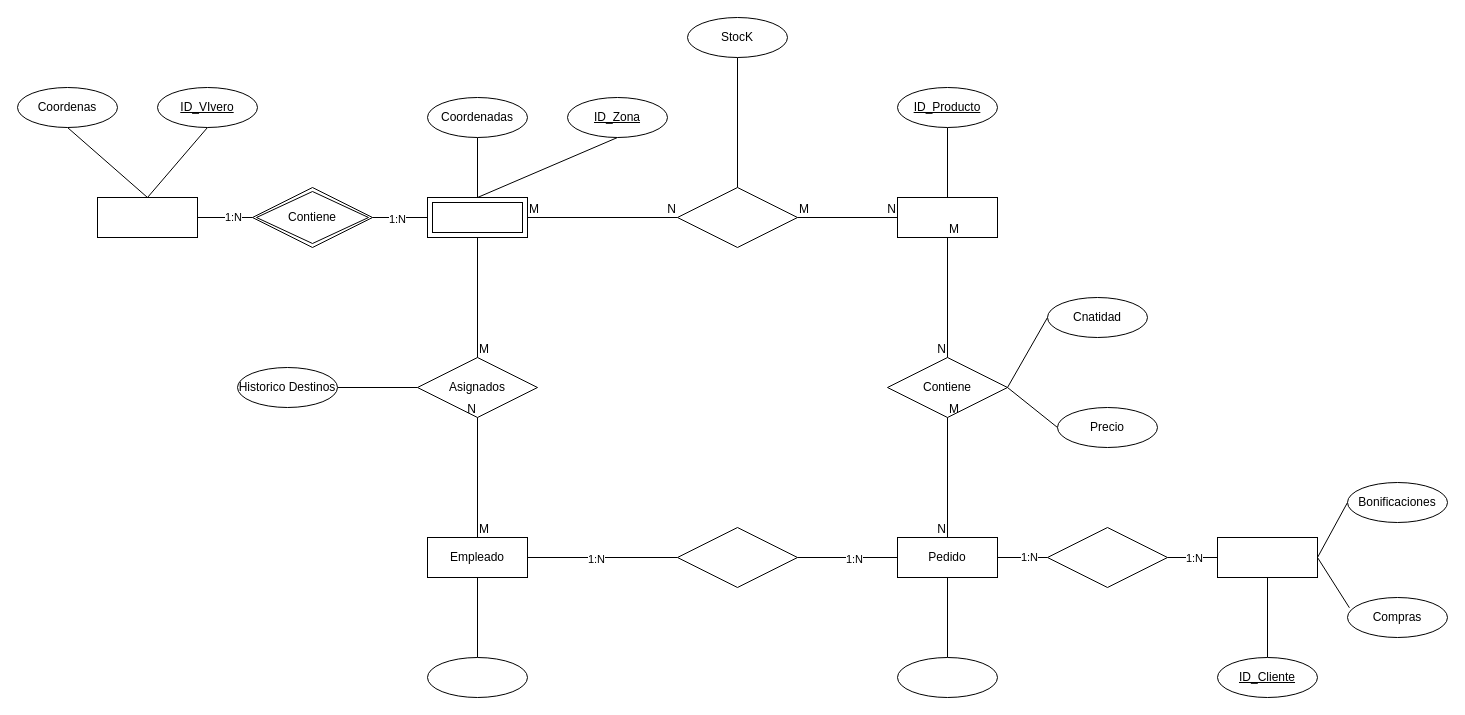
The diagram is 1465 pixels wide and 715 high, and some of its shapes have lost their labels. Here are the shapes that lost their labels. From the top down, the centre of each, then its label:
At (147,217): "Vivero".
At (477,217): "Zona".
At (737,217): "Tiene".
At (947,217): "Producto".
At (737,557): "Gestiona".
At (1107,557): "Realiza".
At (1267,557): "Cliente".
At (477,677): "ID_Empleado".
At (947,677): "ID_Pedido".
